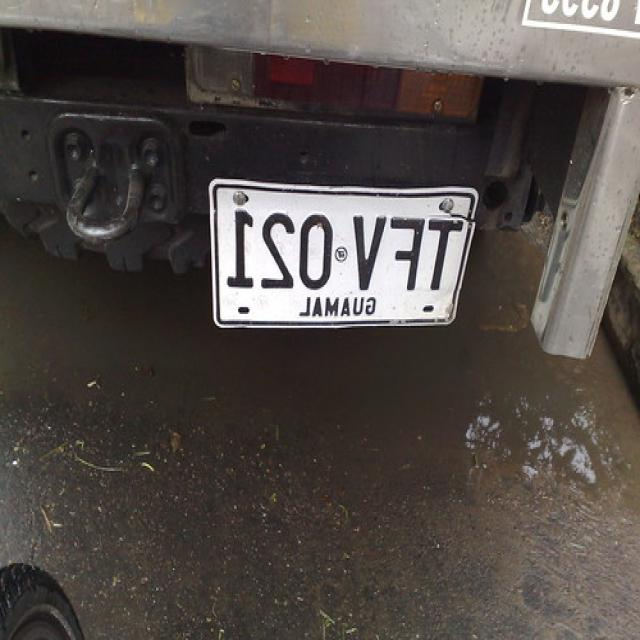placas: (224, 199, 468, 296)
